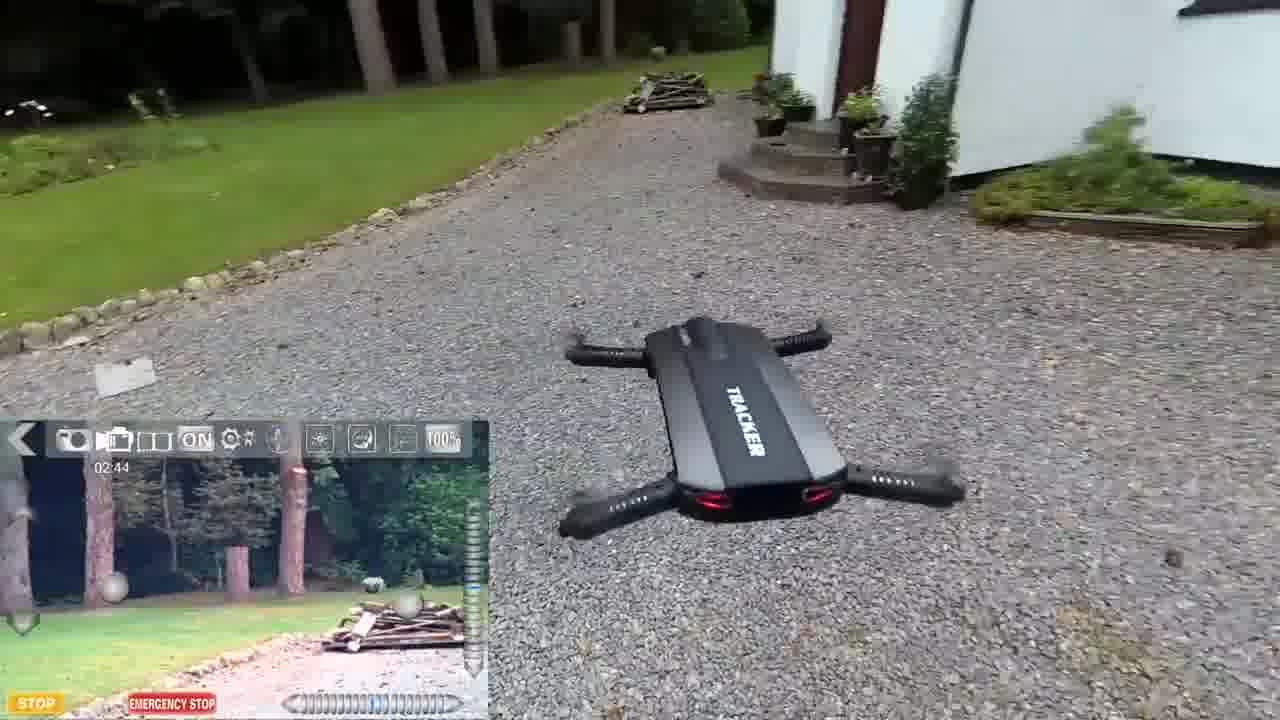drone: (525, 302, 993, 551)
